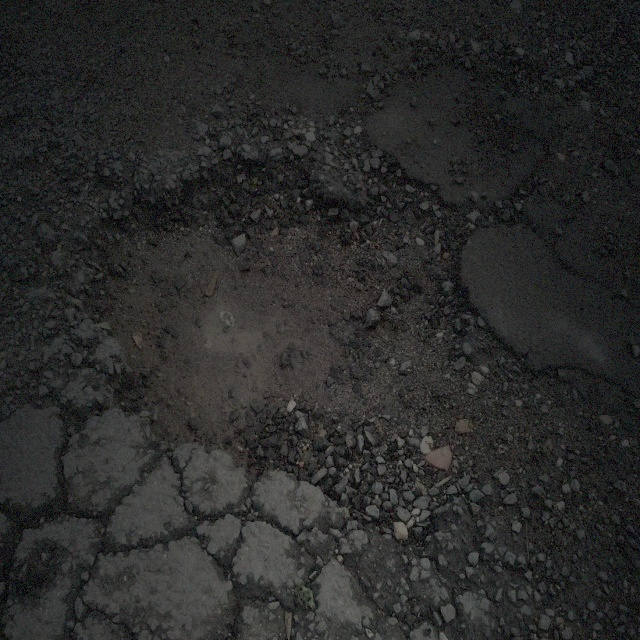pothole: (80, 134, 492, 539)
